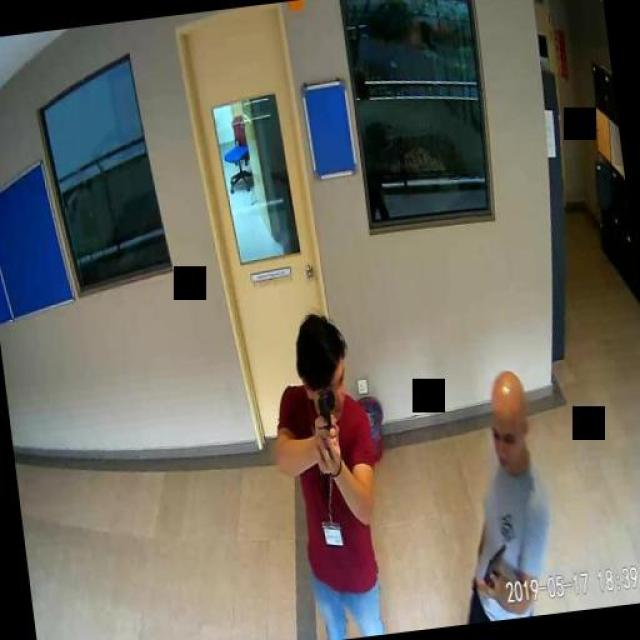gun: (314, 388, 340, 452)
